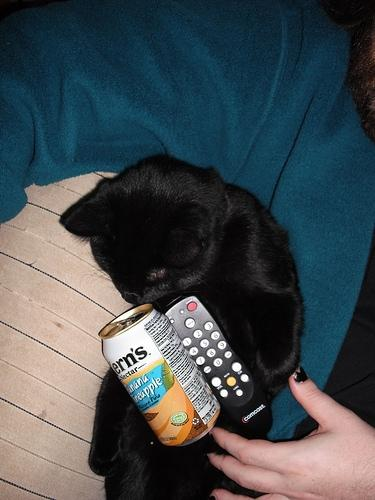banana: (157, 381, 194, 446), (148, 376, 178, 437), (148, 387, 172, 413)
